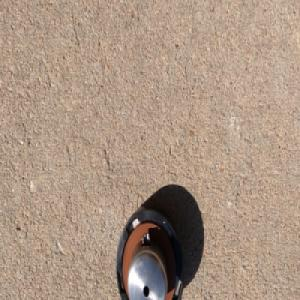FuelCap: (114, 202, 185, 300)
